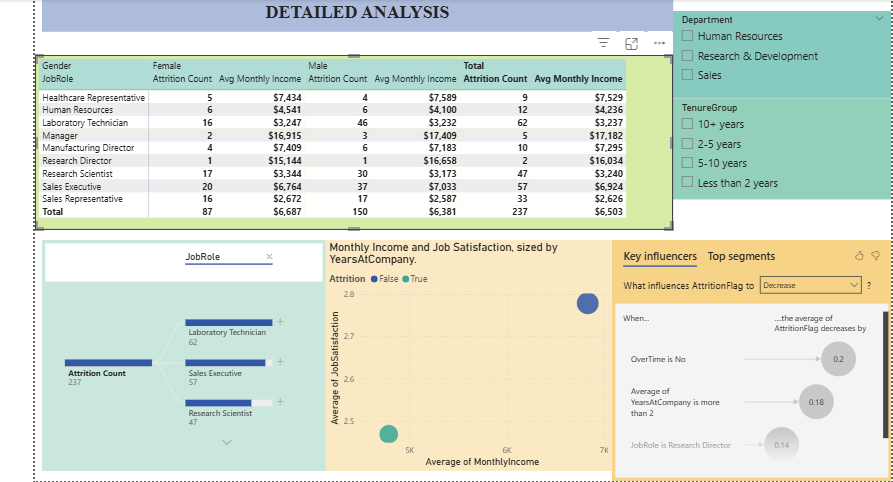

Layout of this report page (visuals, bound fields, positions):
{"tool":"powerbi","page":{"name":"Detailed Analysis","canvas":[1280,720],"ordinal":1},"visuals":[{"type":"pivotTable","fields":{"Rows":["Dim_JobRole.JobRole"],"Columns":["EmployeeFacts.Gender"],"Values":["EmployeeFacts.Attrition Count","EmployeeFacts.Avg Monthly Income"]},"box":[0,83.7,953,261.4],"z":0},{"type":"decompositionTreeVisual","fields":{"Analyze":["EmployeeFacts.Attrition Count"],"ExplainBy":["Dim_JobRole.JobRole","EmployeeFacts.TenureGroup","EmployeeFacts.OverTime","Dim_Department.Department"]},"box":[10.5,360,424.2,345.1],"z":1},{"type":"keyDriversVisual","fields":{"Target":["EmployeeFacts.AttritionFlag"],"ExplainBy":["Dim_Department.Department","Dim_JobRole.JobRole","EmployeeFacts.OverTime","EmployeeFacts.Age Group","Avg(EmployeeFacts.YearsAtCompany)"]},"box":[861.9,345.1,418.3,374.9],"z":2},{"type":"scatterChart","title":"Monthly Income and Job Satisfaction, sized by YearsAtCompany.","fields":{"X":["Avg(EmployeeFacts.MonthlyIncome)"],"Y":["Avg(EmployeeFacts.JobSatisfaction)"],"Size":["Avg(EmployeeFacts.YearsAtCompany)"],"Series":["EmployeeFacts.Attrition"]},"box":[434.7,360,427.2,345.1],"z":3},{"type":"slicer","fields":{"Values":["Dim_Department.Department"]},"box":[953,0,327.1,149.4],"z":4},{"type":"slicer","fields":{"Values":["EmployeeFacts.TenureGroup"]},"box":[953,149.4,327.1,195.7],"z":5},{"type":"textbox","box":[10.5,0,942.6,49.3],"z":6}]}

Visuals, with their boxes on the page's 1280x720 design canvas (x1, y1, x2, y2). These are canvas units, not pixel positions in the 893x482 screenshot, which may show the page scaled, cropped or inside an application window:
pivotTable - Dim_JobRole.JobRole x EmployeeFacts.Gender: locate(0, 84, 953, 345)
decompositionTreeVisual - EmployeeFacts.Attrition Count x Dim_JobRole.JobRole: locate(10, 360, 435, 705)
keyDriversVisual - EmployeeFacts.AttritionFlag x Dim_Department.Department: locate(862, 345, 1280, 720)
"Monthly Income and Job Satisfaction, sized by YearsAtCompany." scatterChart: locate(435, 360, 862, 705)
slicer - Dim_Department.Department: locate(953, 0, 1280, 149)
slicer - EmployeeFacts.TenureGroup: locate(953, 149, 1280, 345)
textbox: locate(10, 0, 953, 49)
